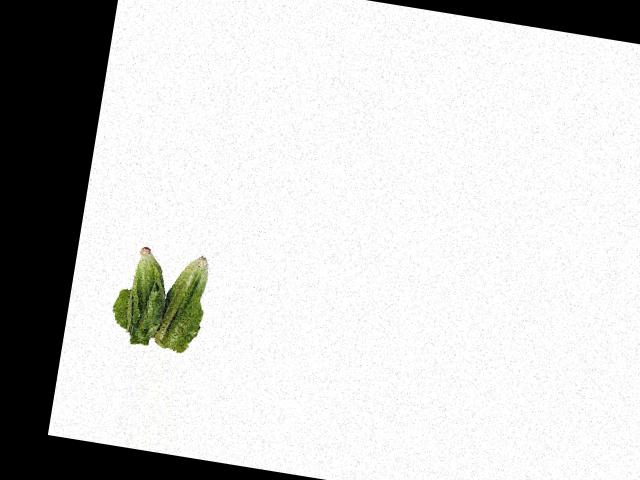lettuce: (117, 243, 217, 356)
